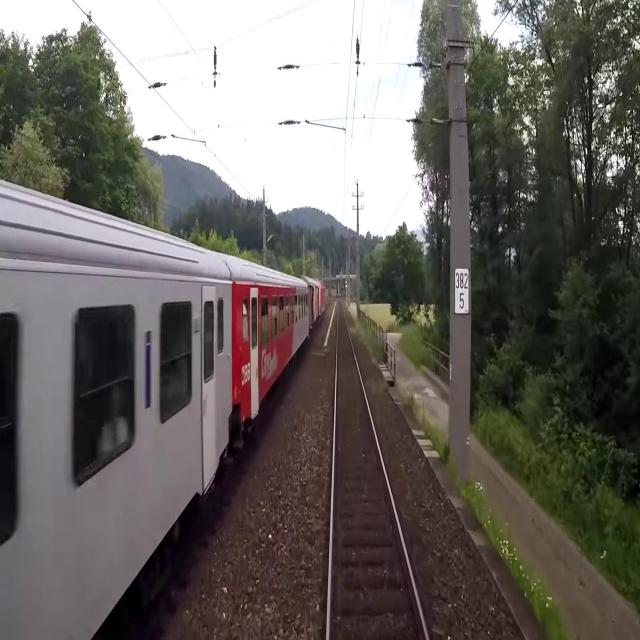rail-track: (330, 300, 426, 639)
